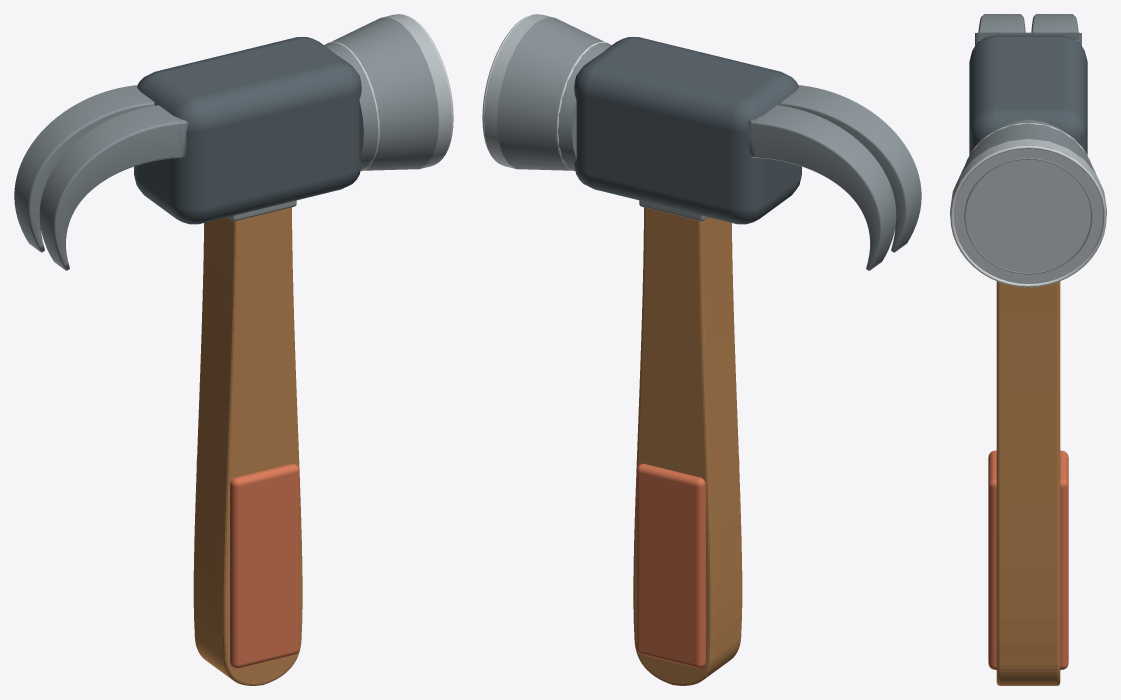
Rendered from workshop-hammer-detailed.glb.
The picture shows the model from 3 angles, left to right: view 1: azimuth 30°, elevation 25°; view 2: azimuth 150°, elevation 25°; view 3: azimuth 270°, elevation 25°; orthographic projection.
Visible parts, largest first — view 1: Wood_Handle, steelInset, Grip_Front, steel, Claw_Back, Claw_Front, steelEdge; view 2: Wood_Handle, steelInset, Grip_Back, steel, Claw_Front, Claw_Back, steelEdge; view 3: Wood_Handle, steelEdge, steelInset, steel, Grip_Front, Grip_Back, Polished Striking Rim, Claw_Front, Claw_Back, Machined Face Groove.
Boxes of the visible parts, x1,y1,x2,y2 form: Wood_Handle: [193, 207, 302, 685]; steelInset: [134, 37, 361, 224]; Grip_Front: [230, 463, 299, 668]; steel: [180, 17, 438, 170]; Claw_Back: [39, 105, 188, 270]; Claw_Front: [14, 85, 154, 252]; steelEdge: [381, 14, 451, 168]; Wood_Handle: [633, 207, 742, 685]; steelInset: [574, 37, 801, 224]; Grip_Back: [636, 463, 705, 668]; steel: [497, 17, 755, 170]; Claw_Front: [747, 105, 896, 270]; Claw_Back: [781, 85, 921, 252]; steelEdge: [484, 14, 554, 168]; Wood_Handle: [996, 281, 1060, 685]; steelEdge: [950, 138, 1106, 283]; steelInset: [969, 35, 1087, 154]; steel: [961, 32, 1095, 173]; Grip_Front: [988, 450, 996, 669]; Grip_Back: [1060, 450, 1068, 669]; Polished Striking Rim: [950, 145, 1106, 287]; Claw_Front: [1031, 14, 1079, 42]; Claw_Back: [977, 14, 1025, 42]; Machined Face Groove: [964, 158, 1092, 274].
Bounding box in the file's own units: 0.2649 × 0.408 × 0.094.
